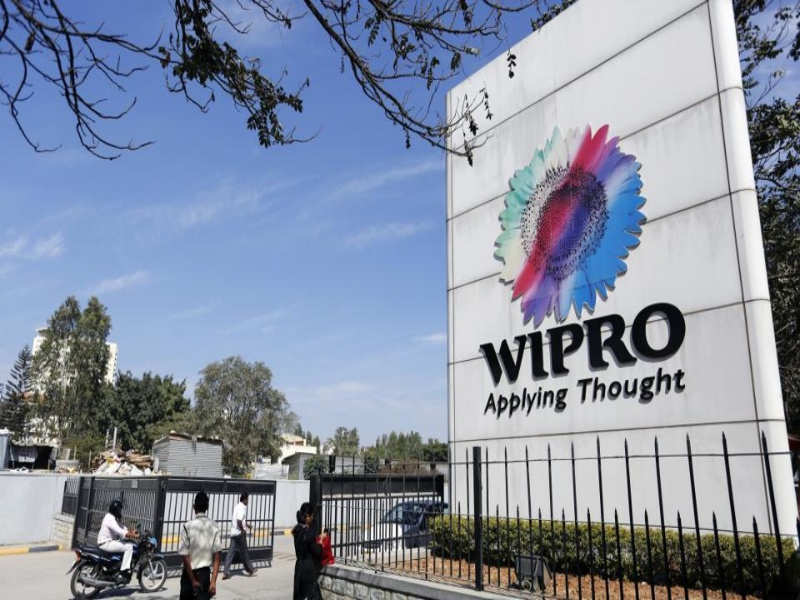wipro: (484, 125, 658, 320)
